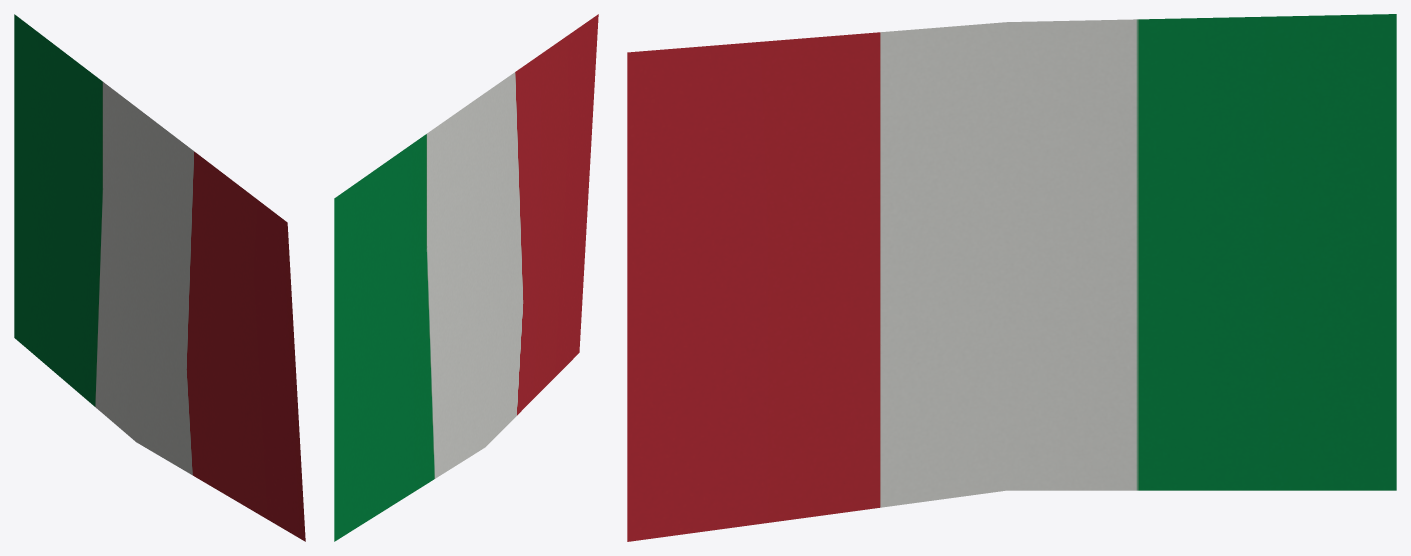
Rendered from SM_Morin_Bandiera_Italia_LOD2.fbx.
The picture shows the model from 3 angles, left to right: view 1: azimuth 30°, elevation 25°; view 2: azimuth 150°, elevation 25°; view 3: azimuth 270°, elevation 25°; orthographic projection. The views are drawn at different scales.
Parts seen in each view (by area): view 1: SM_Morin_Bandiera_Italia_LOD2; view 2: SM_Morin_Bandiera_Italia_LOD2; view 3: SM_Morin_Bandiera_Italia_LOD2.
Boxes of the visible parts, x1,y1,x2,y2 form: SM_Morin_Bandiera_Italia_LOD2: [14, 14, 305, 541]; SM_Morin_Bandiera_Italia_LOD2: [334, 14, 598, 541]; SM_Morin_Bandiera_Italia_LOD2: [627, 14, 1396, 541].
Bounding box in the file's own units: 20.91 × 234 × 170.
1 material, 1 textured.
